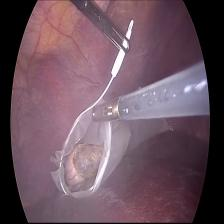Grasper: (81, 1, 139, 58), (91, 96, 125, 124)
Specimen Bag: (45, 50, 172, 206)
